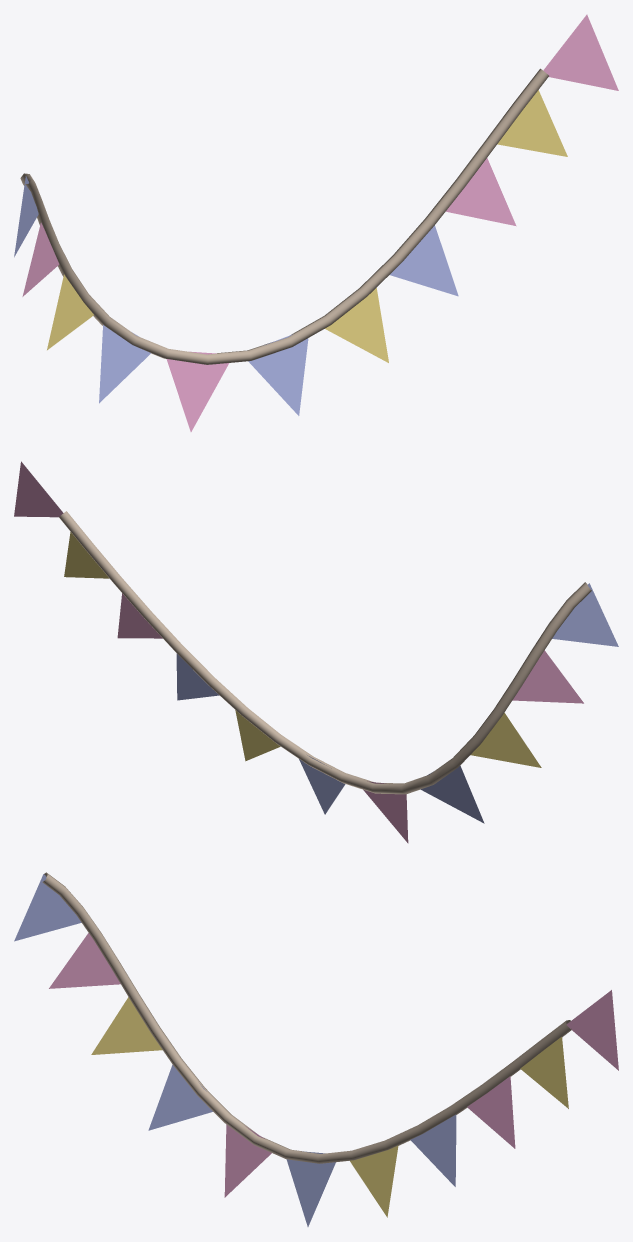
Rendered from Mesh_Enviro_Guirlande.fbx.
The picture shows the model from 3 angles, top to bottom: view 1: azimuth 30°, elevation 25°; view 2: azimuth 150°, elevation 25°; view 3: azimuth 330°, elevation 25°; orthographic projection. The views are drawn at different scales.
Visible parts, largest first — view 1: guirlande; view 2: guirlande; view 3: guirlande.
Boxes of the visible parts, box(x1,y1,x2,y2) form: guirlande: box(14, 14, 618, 431); guirlande: box(14, 461, 618, 843); guirlande: box(14, 872, 618, 1226).
Size of the model in its own units: 157 by 75.86 by 19.11.
